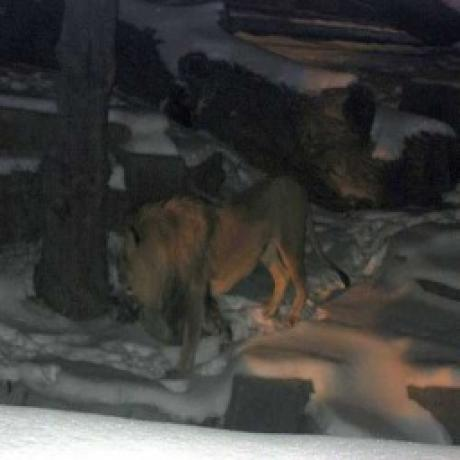Lion: (120, 176, 351, 380)
